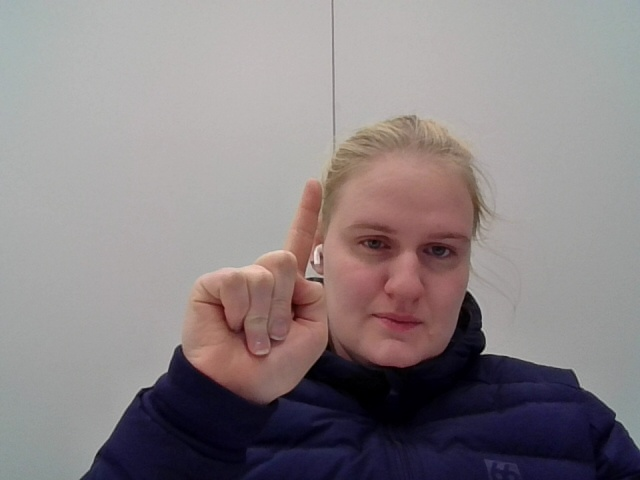up: (171, 170, 326, 409)
